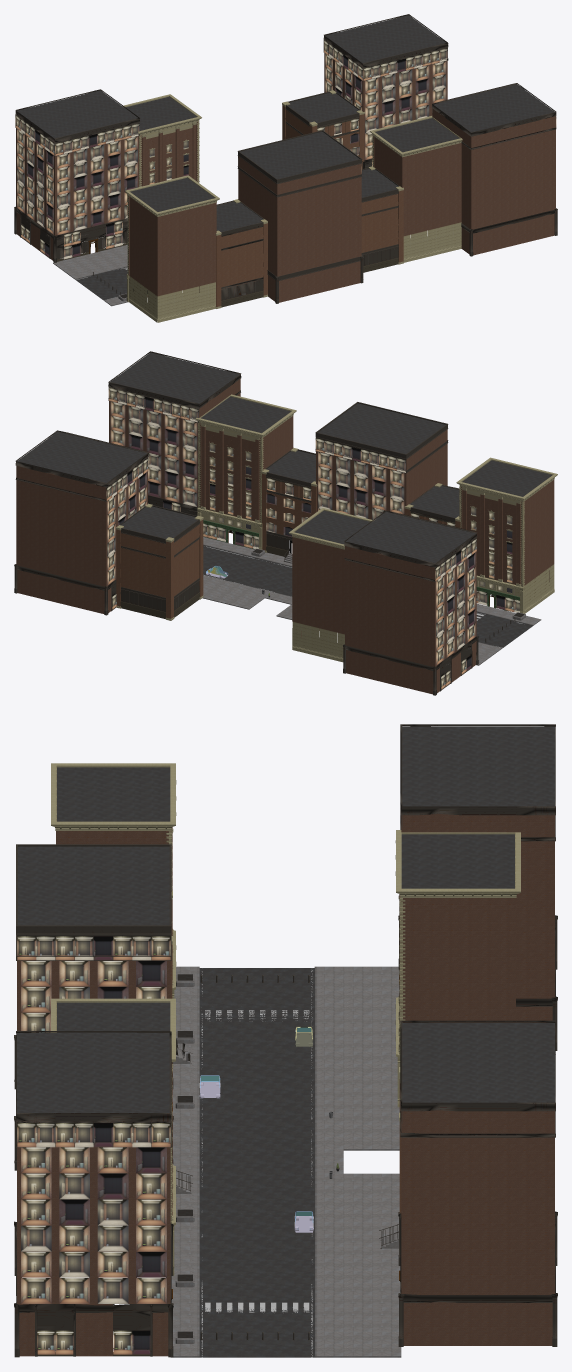
Rendered from downtown.glb.
3 views of the same model, one above another, from view 1: azimuth 30°, elevation 25°; view 2: azimuth 150°, elevation 25°; view 3: azimuth 270°, elevation 25° (orthographic). The views are drawn at different scales.
Visible parts, largest first — view 1: nearR1, far3, far0, far5, nearL1, far1, nearR0, far4, far2, nearL0, street; view 2: nearR1, nearL1, far0, far3, far5, far1, nearL0, nearR0, street, far2, far4; view 3: street, nearL1, far0, far3, nearR1, nearR0, far5, far1.
Boxes of the visible parts, x1=… form: nearR1: x1=14, y1=89, x2=140, y2=262; far3: x1=237, y1=130, x2=363, y2=303; far0: x1=431, y1=83, x2=557, y2=256; far5: x1=125, y1=175, x2=219, y2=322; nearL1: x1=323, y1=14, x2=448, y2=168; far1: x1=369, y1=116, x2=462, y2=262; nearR0: x1=122, y1=94, x2=201, y2=186; far4: x1=215, y1=199, x2=267, y2=308; far2: x1=361, y1=166, x2=403, y2=272; nearL0: x1=282, y1=90, x2=364, y2=168; street: x1=53, y1=245, x2=127, y2=306; nearR1: x1=343, y1=510, x2=478, y2=695; nearL1: x1=14, y1=430, x2=148, y2=615; far0: x1=108, y1=351, x2=241, y2=515; far3: x1=315, y1=402, x2=448, y2=519; far5: x1=456, y1=457, x2=557, y2=613; far1: x1=195, y1=394, x2=296, y2=549; nearL0: x1=116, y1=503, x2=203, y2=620; nearR0: x1=289, y1=508, x2=373, y2=662; street: x1=202, y1=537, x2=541, y2=665; far2: x1=260, y1=447, x2=317, y2=563; far4: x1=404, y1=483, x2=460, y2=528; street: x1=171, y1=966, x2=401, y2=1357; nearL1: x1=398, y1=1020, x2=557, y2=1346; far0: x1=14, y1=1031, x2=173, y2=1357; far3: x1=14, y1=844, x2=173, y2=1170; nearR1: x1=398, y1=724, x2=557, y2=1050; nearR0: x1=395, y1=830, x2=520, y2=1107; far5: x1=51, y1=763, x2=176, y2=998; far1: x1=51, y1=998, x2=176, y2=1275.
Bounding box in the file's own units: 96.32 × 28.15 × 56.64.
Materials: 8 (7 with a texture image).
